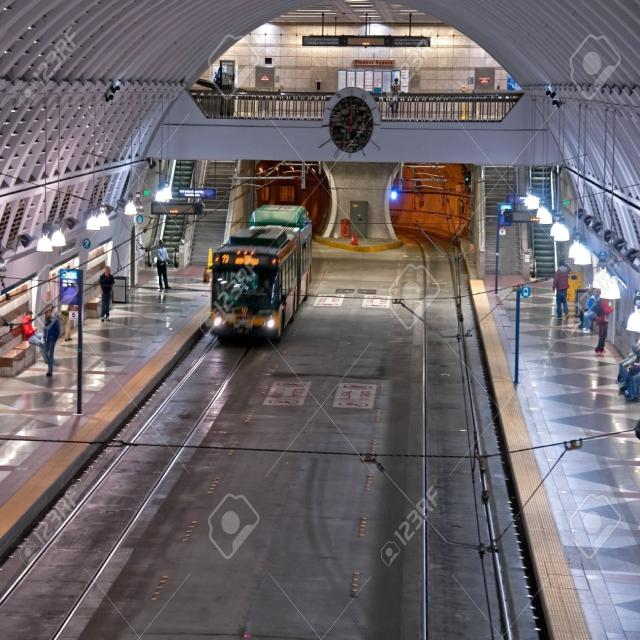body: (614, 331, 639, 404), (20, 308, 49, 366), (576, 280, 604, 334), (41, 303, 60, 377), (551, 256, 572, 321), (594, 298, 614, 356), (97, 264, 115, 324), (155, 238, 173, 290), (250, 269, 273, 297), (59, 302, 74, 342), (389, 77, 402, 114)
